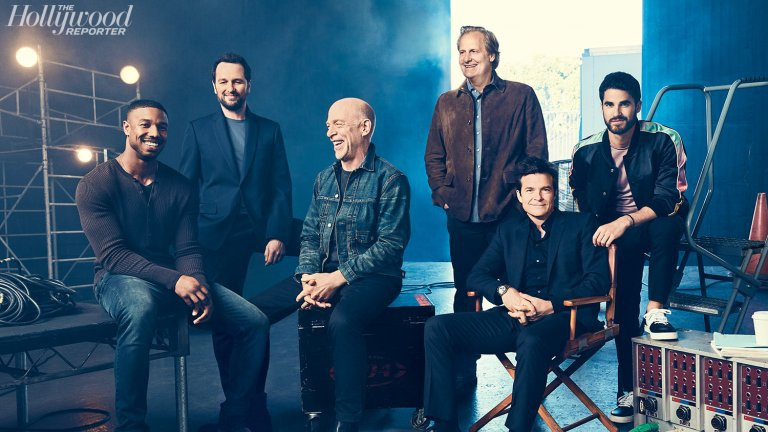bad: (132, 108, 175, 151), (449, 38, 485, 74), (597, 94, 633, 130), (521, 178, 557, 214), (213, 70, 249, 106)
